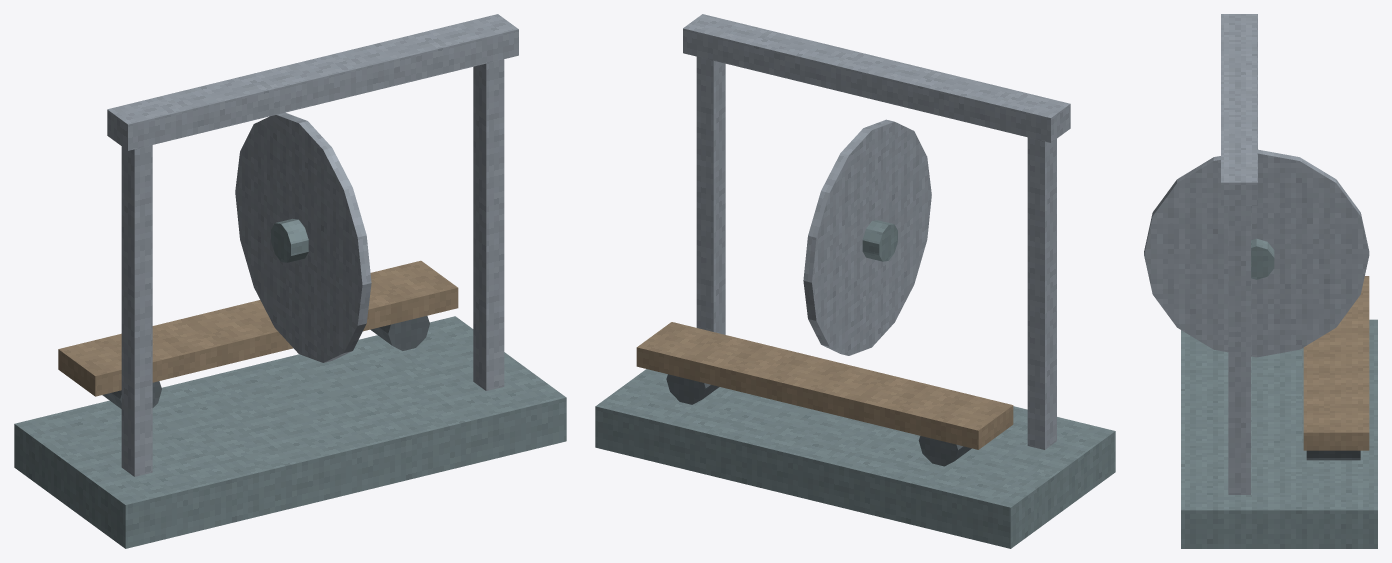
File: level_blockout_sawmill_headdrig.glb
The picture shows the model from 3 angles, left to right: view 1: azimuth 30°, elevation 25°; view 2: azimuth 150°, elevation 25°; view 3: azimuth 270°, elevation 25°; orthographic projection. The views are drawn at different scales.
Parts seen in each view (by area): view 1: level_blockout_sawmill_headdrig; view 2: level_blockout_sawmill_headdrig; view 3: level_blockout_sawmill_headdrig.
Part boxes in pixels (left/top/right/bottom): level_blockout_sawmill_headdrig: left=14, top=14, right=566, bottom=548; level_blockout_sawmill_headdrig: left=595, top=14, right=1115, bottom=548; level_blockout_sawmill_headdrig: left=1144, top=14, right=1377, bottom=548.
Bounding box in the file's own units: 3.16 × 2.75 × 1.64.
4 materials, 4 textured.
